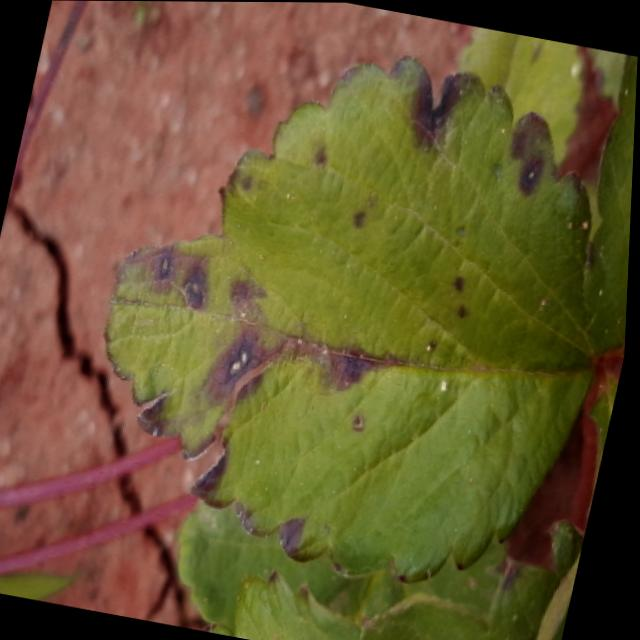Leaf Spot: (106, 55, 597, 584), (201, 515, 589, 640), (585, 53, 638, 357), (588, 365, 621, 534), (542, 534, 589, 640)
